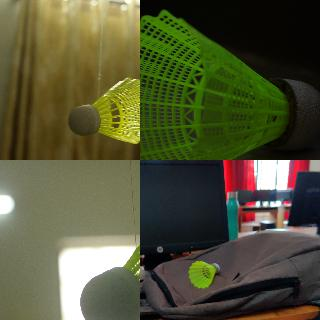shuttlecock: (140, 8, 319, 159), (80, 193, 139, 319), (68, 76, 139, 144), (189, 260, 217, 286)
